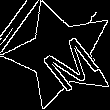M_NW: (25, 21, 96, 89)
